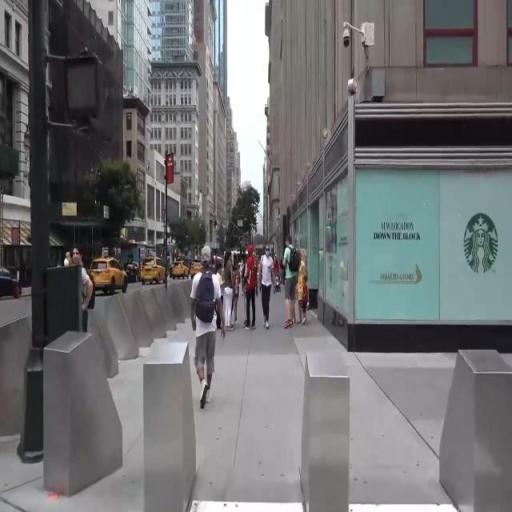person: (192, 246, 219, 410), (282, 237, 301, 331), (260, 244, 277, 332), (243, 245, 259, 332), (223, 251, 237, 334)
